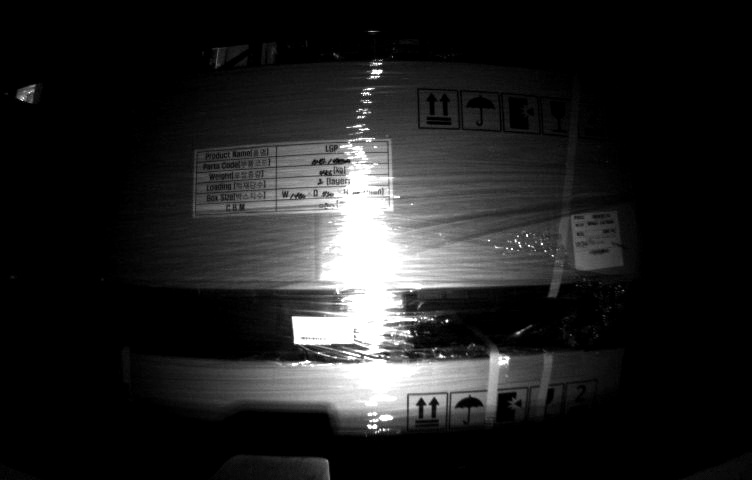True Barcode: (570, 207, 626, 273)
